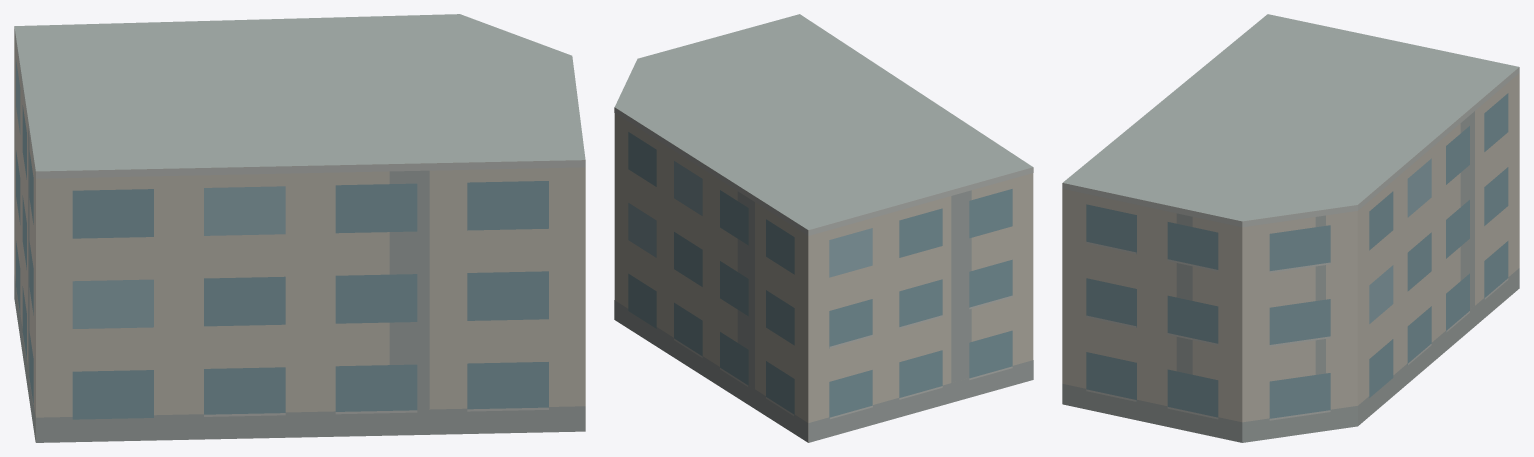
Rendered from residential-8736eab0-6f6a-4add-8719-5c8a28617ba8.glb.
3 views of the same model, side by side, from view 1: azimuth 30°, elevation 25°; view 2: azimuth 150°, elevation 25°; view 3: azimuth 270°, elevation 25° (orthographic). The views are drawn at different scales.
Parts seen in each view (by area): view 1: residential-8736eab0-6f6a-4add-8719-5c8a28617ba8.tmp; view 2: residential-8736eab0-6f6a-4add-8719-5c8a28617ba8.tmp; view 3: residential-8736eab0-6f6a-4add-8719-5c8a28617ba8.tmp.
Part boxes in pixels (left/top/right/bottom): residential-8736eab0-6f6a-4add-8719-5c8a28617ba8.tmp: left=14, top=14, right=585, bottom=442; residential-8736eab0-6f6a-4add-8719-5c8a28617ba8.tmp: left=614, top=14, right=1033, bottom=442; residential-8736eab0-6f6a-4add-8719-5c8a28617ba8.tmp: left=1062, top=14, right=1519, bottom=442.
Bounding box in the file's own units: 18.09 × 9 × 16.84.
